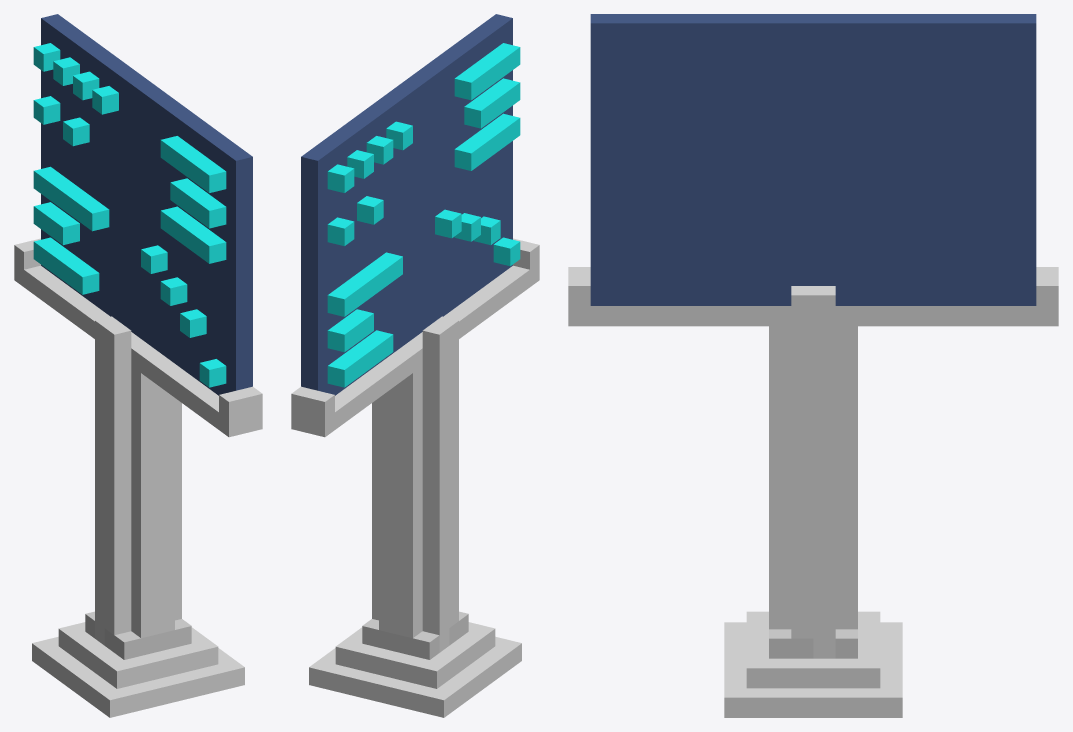
The model's file is Uprav_canter_draft-1.obj.
3 renders of one model, left to right at view 1: azimuth 30°, elevation 25°; view 2: azimuth 150°, elevation 25°; view 3: azimuth 270°, elevation 25°, orthographic. The views are drawn at different scales.
Bounding box in the file's own units: 0.8 × 3.3 × 2.2.
Materials: 1 (1 with a texture image).
